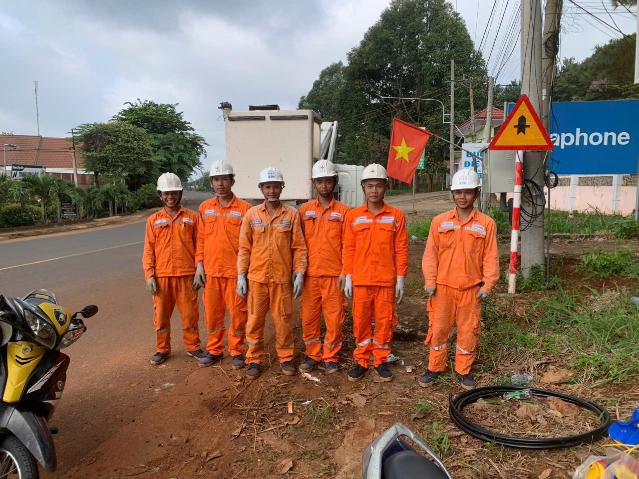gloves: (292, 268, 316, 299), (390, 272, 410, 308), (192, 260, 212, 290), (421, 280, 446, 298), (235, 269, 252, 295), (146, 275, 163, 297), (340, 275, 356, 298), (333, 274, 346, 290), (477, 287, 489, 304), (192, 276, 202, 292)
helmet: (150, 171, 186, 198), (202, 157, 236, 181), (446, 169, 482, 191), (308, 159, 341, 180), (358, 162, 391, 182), (262, 169, 287, 186)
shoes: (242, 354, 264, 382), (194, 345, 223, 366), (344, 362, 368, 383), (373, 361, 394, 385), (150, 348, 172, 368), (277, 358, 297, 378), (419, 368, 439, 388), (301, 354, 318, 375), (454, 374, 477, 389), (186, 346, 206, 360), (324, 357, 338, 377), (230, 355, 246, 370)
